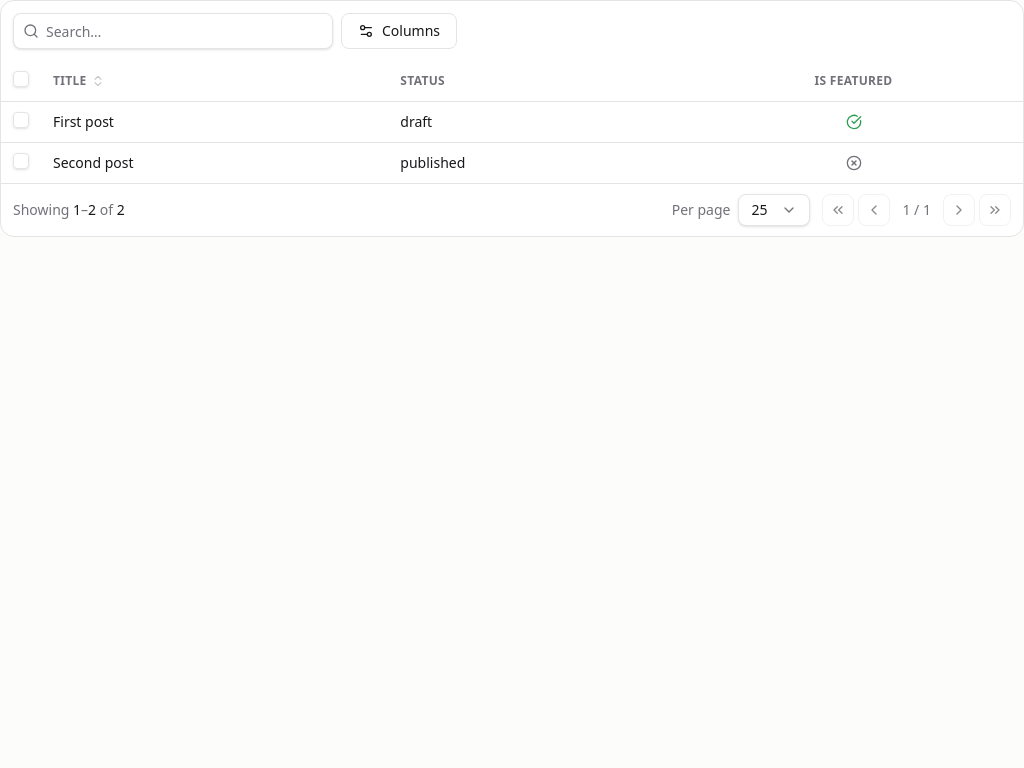
Test: row selection and bulk actions › shows the bulk bar once a row is selected
Check: the text "First post" is shown, box [53,112,114,132]
Click the checkbox named "Select row 1": (21, 120) [13,112,29,128]
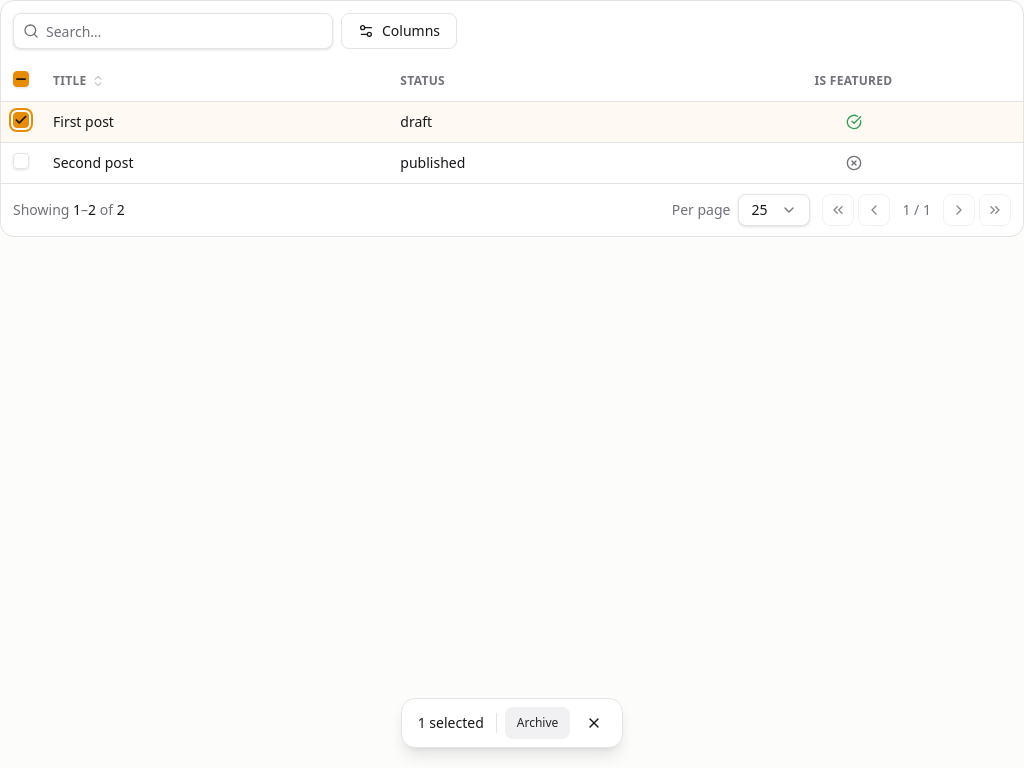
Check: the text "1 selected" is shown, box [414,713,488,733]
